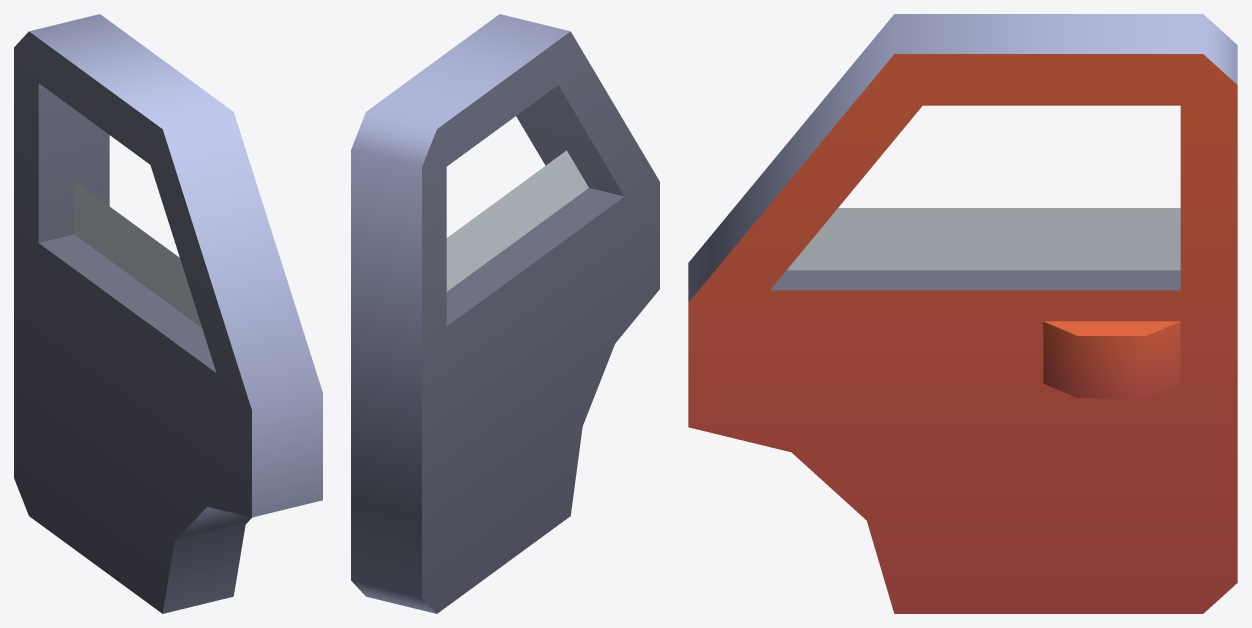
File: debrisDoorWindow.glb
The picture shows the model from 3 angles, left to right: view 1: azimuth 30°, elevation 25°; view 2: azimuth 150°, elevation 25°; view 3: azimuth 270°, elevation 25°; orthographic projection. The views are drawn at different scales.
Parts seen in each view (by area): view 1: debris-door-window; view 2: debris-door-window; view 3: debris-door-window.
Boxes of the visible parts, x1,y1,x2,y2 form: debris-door-window: (14, 14, 322, 613); debris-door-window: (351, 14, 659, 613); debris-door-window: (688, 14, 1237, 613).
Size of the model in its own units: 0.2256 by 1.08 by 0.96.
1 material, 1 textured.
